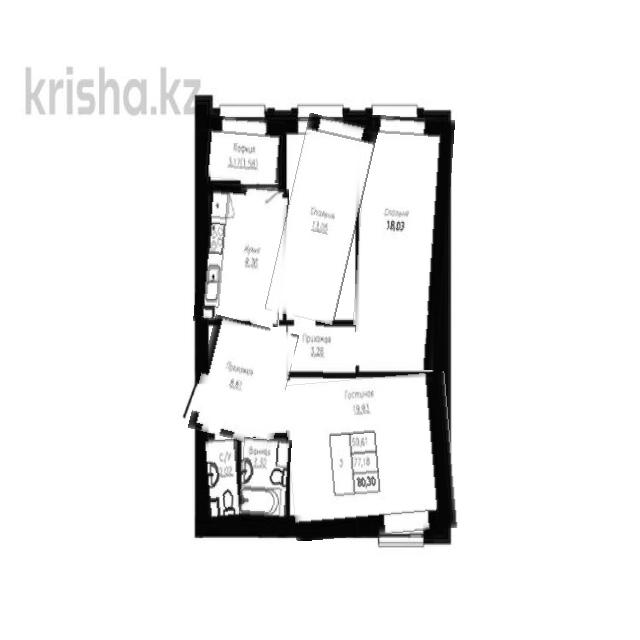balcony: (198, 117, 283, 182)
bathroom: (240, 438, 290, 528), (199, 439, 242, 530)
hallway: (195, 319, 293, 444), (290, 324, 356, 379)
kitchen: (196, 184, 287, 326)
living_room: (287, 375, 455, 538), (355, 116, 451, 369), (275, 115, 368, 323)
